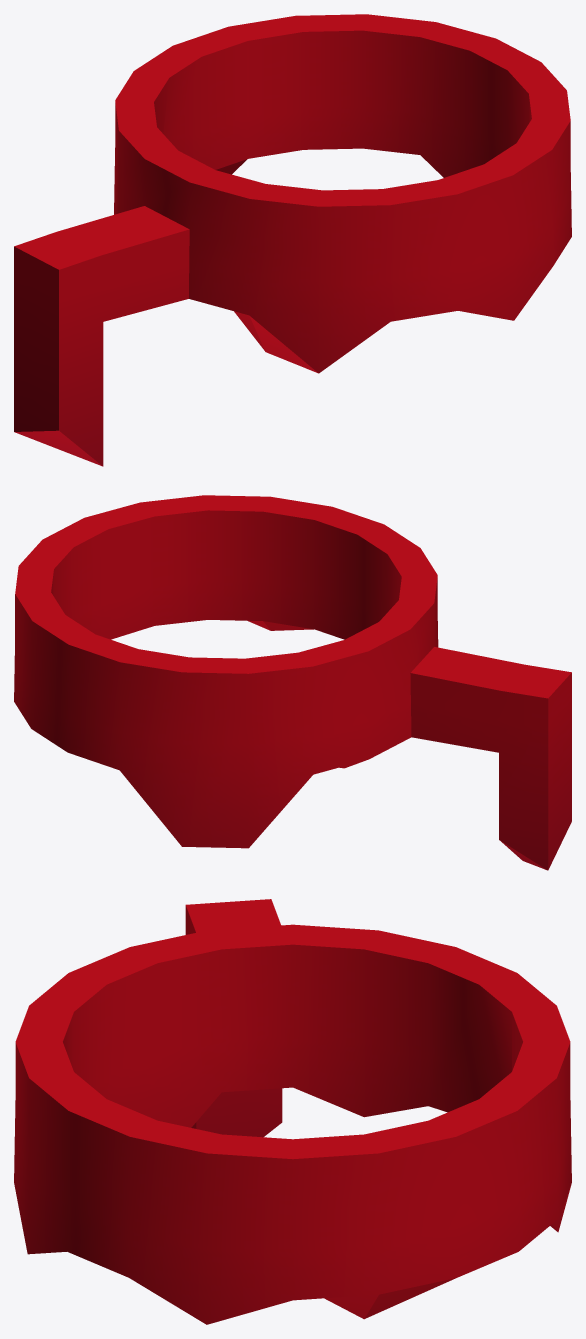
File: mug_broke1.fbx
3 views of the same model, one above another, from view 1: azimuth 30°, elevation 25°; view 2: azimuth 150°, elevation 25°; view 3: azimuth 270°, elevation 25° (orthographic). The views are drawn at different scales.
Parts seen in each view (by area): view 1: BrokenTop; view 2: BrokenTop; view 3: BrokenTop.
Boxes of the visible parts, x1,y1,x2,y2 form: BrokenTop: (14,14,571,466); BrokenTop: (14,495,571,870); BrokenTop: (14,899,571,1324).
Bounding box in the file's own units: 2.31 × 1.07 × 1.72.
Materials: 1 (1 with a texture image).
